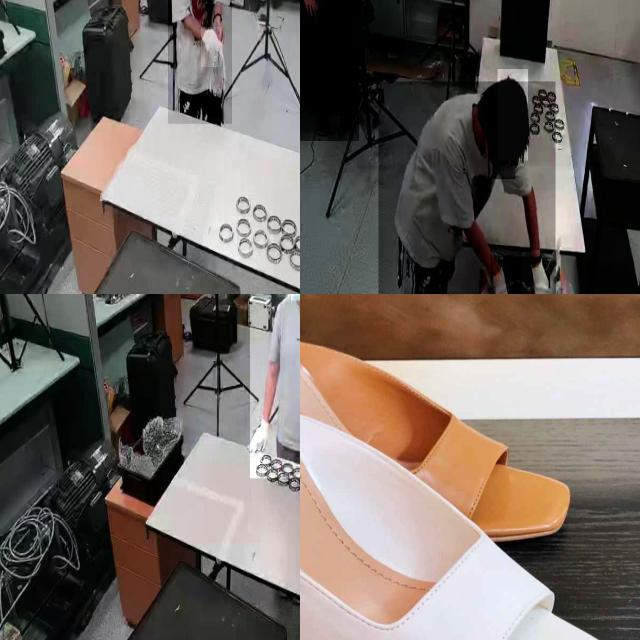Sandals: (300, 329, 640, 640)
face_mask: (488, 142, 516, 179)
hand_glove: (522, 250, 561, 294), (246, 412, 268, 468), (490, 255, 515, 294), (201, 27, 223, 68)
hand_noglove: (300, 0, 319, 21)
head_nohelmet: (498, 69, 528, 161)
person: (378, 81, 555, 294), (250, 294, 300, 479), (300, 0, 359, 142), (167, 0, 232, 125)
